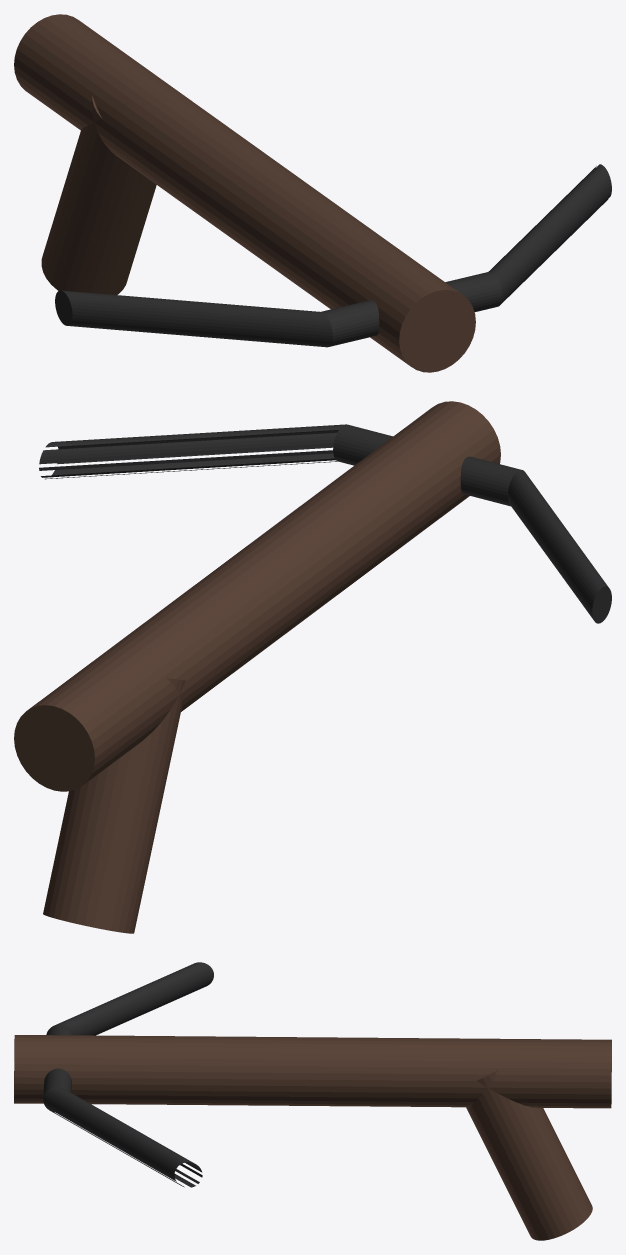
Rendered from SmallCrossbow-Fl.fbx.
The picture shows the model from 3 angles, top to bottom: view 1: azimuth 30°, elevation 25°; view 2: azimuth 150°, elevation 25°; view 3: azimuth 270°, elevation 25°; orthographic projection. The views are drawn at different scales.
Parts seen in each view (by area): view 1: Цилиндр; view 2: Цилиндр; view 3: Цилиндр.
Boxes of the visible parts, box(x1,y1,x2,y2) form: Цилиндр: box(14, 14, 611, 372); Цилиндр: box(14, 401, 611, 933); Цилиндр: box(14, 962, 611, 1240).
Bounding box in the file's own units: 23.46 × 10.65 × 29.41.
